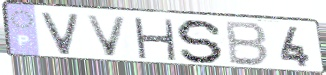4: (278, 25, 312, 68)
B: (225, 19, 271, 68)
H: (131, 16, 178, 62)
S: (174, 18, 226, 65)
V: (83, 14, 130, 58), (38, 11, 82, 57)
